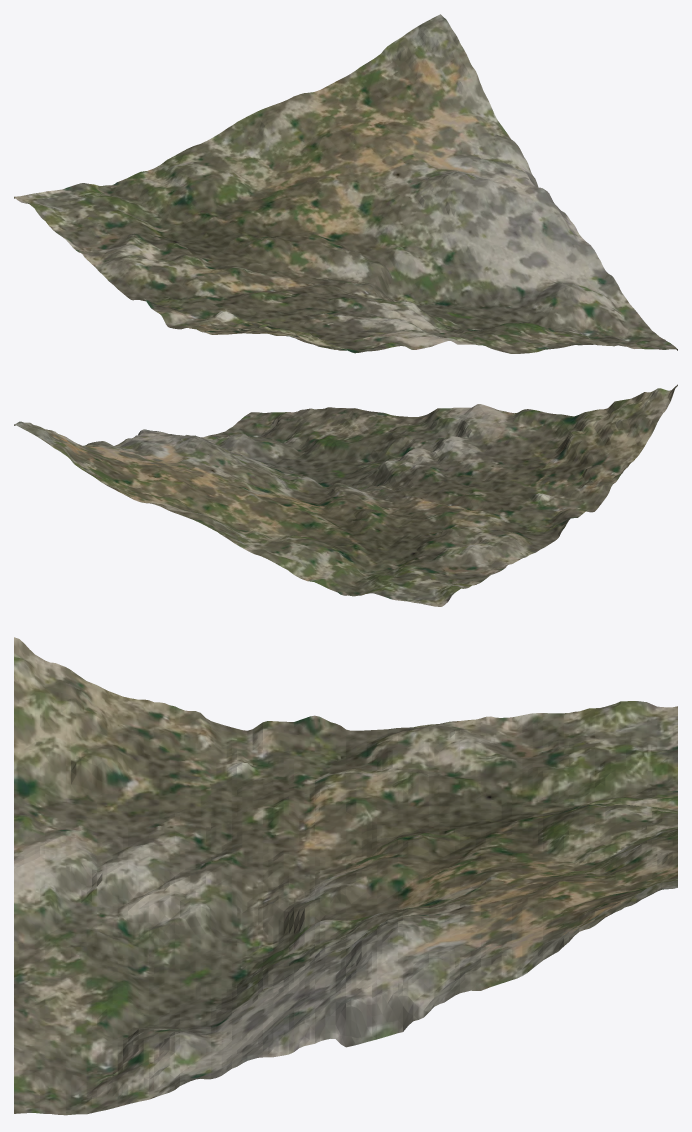
3 views of the same model, one above another, from view 1: azimuth 30°, elevation 25°; view 2: azimuth 150°, elevation 25°; view 3: azimuth 270°, elevation 25° (orthographic). The views are drawn at different scales.
Size of the model in its own units: 250 by 91.94 by 241.
Materials: 1 (1 with a texture image).
